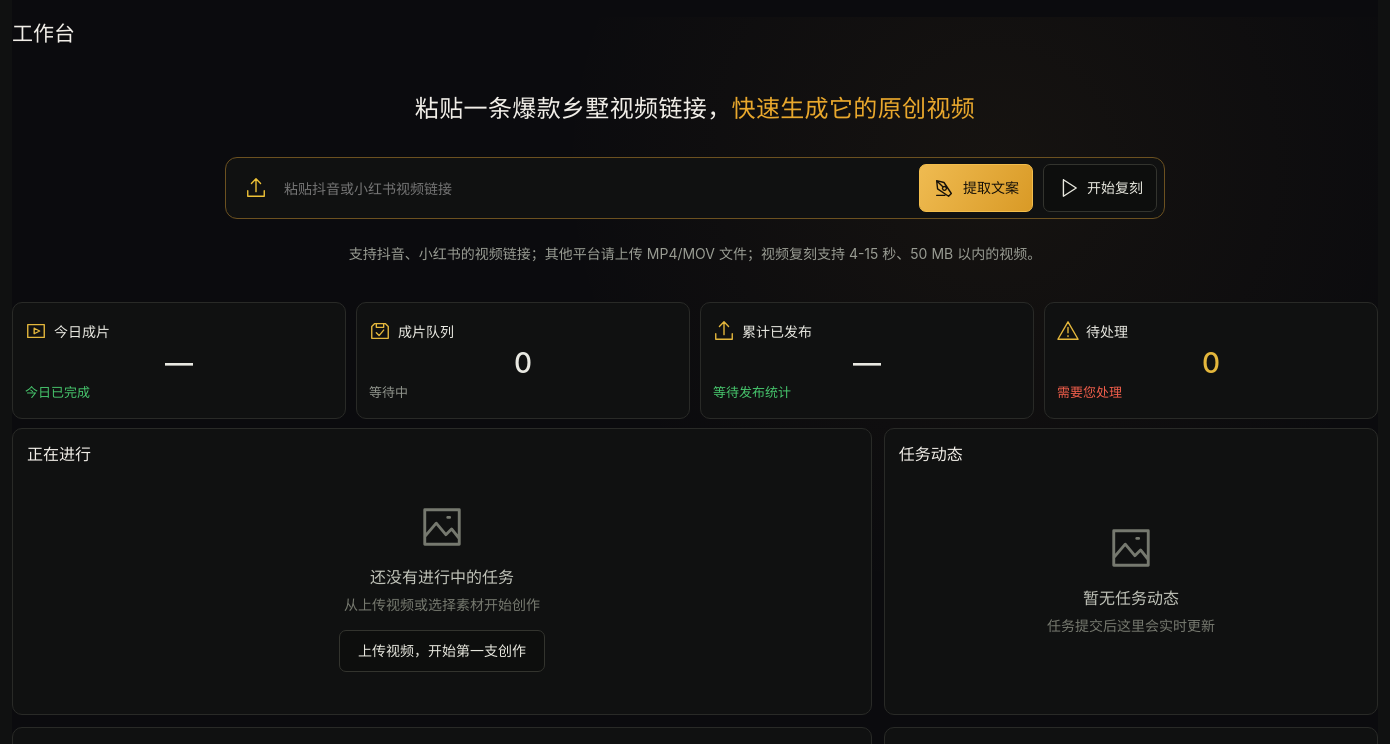
Test case: V1.4 工作台上传与创作入口 › 链接失败显示上传回退且不创建导入任务：链接中没有可用视频，请上传 MP4 或 MOV 文件。
Type "https://channels.weixin.qq.com/example" into the field labelled "视频链接" at (596, 188), box x1=284 y1=174 x2=909 y2=202
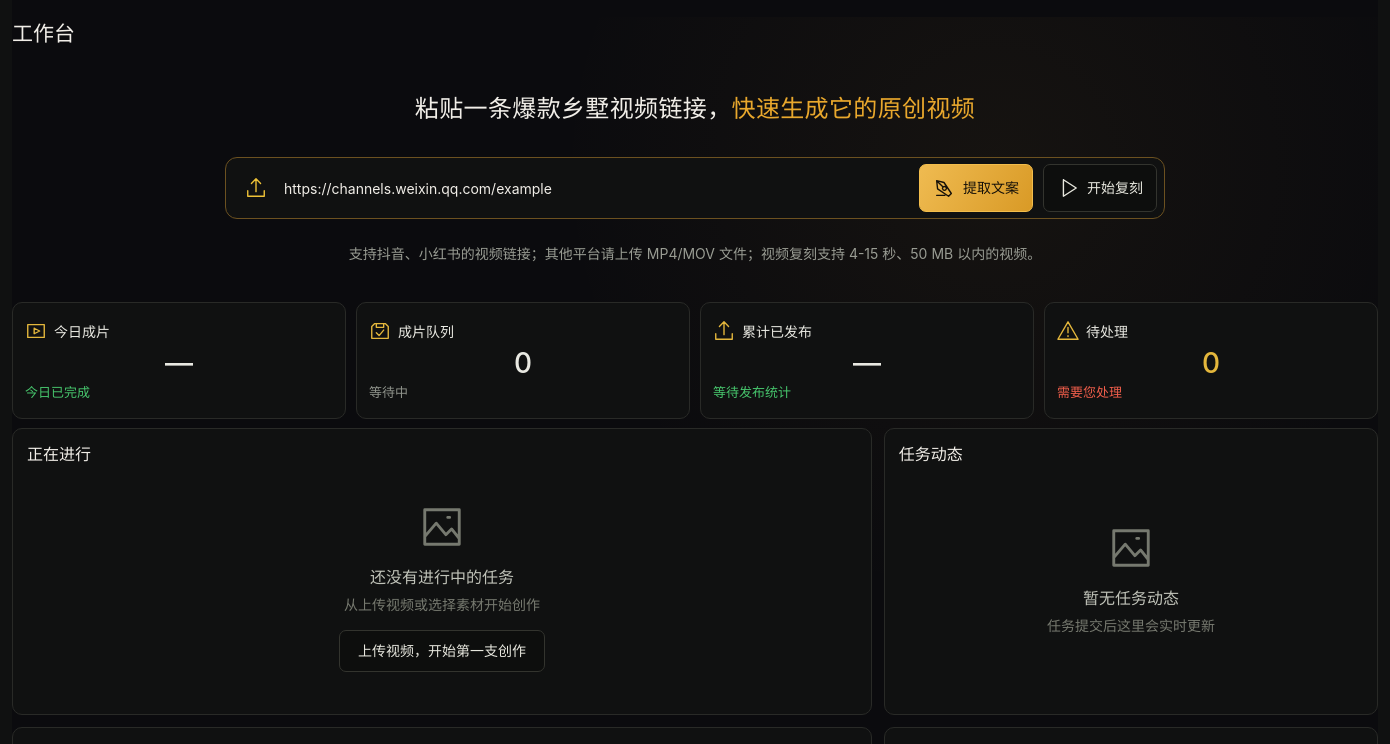
Click the button "开始复刻" at (1100, 188), box x1=1043 y1=164 x2=1157 y2=212
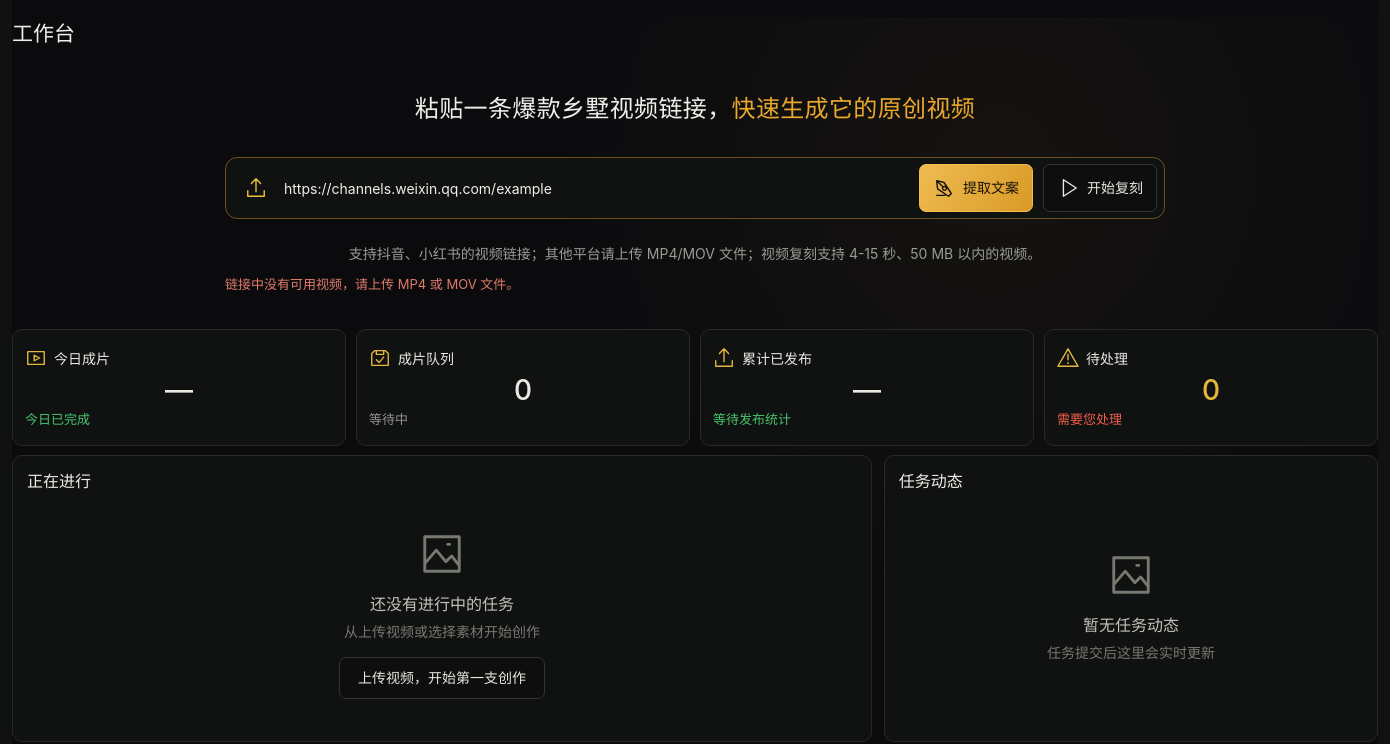
Now the message reads "链接中没有可用视频，请上传 MP4 或 MOV 文件。", box x1=225 y1=276 x2=519 y2=292
